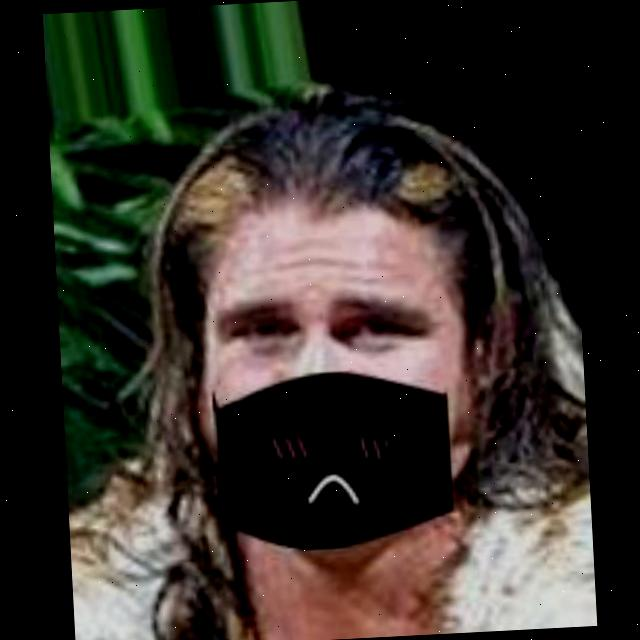suspicion: (119, 124, 535, 546)
